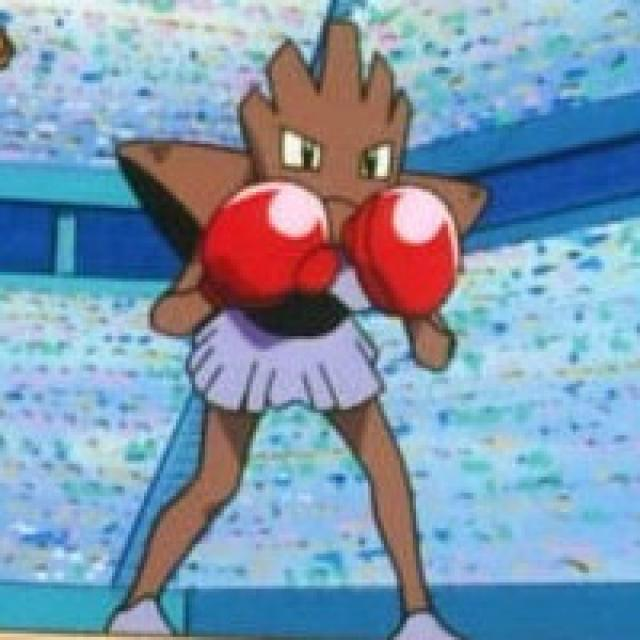Hitmonchan: (119, 18, 472, 640)
